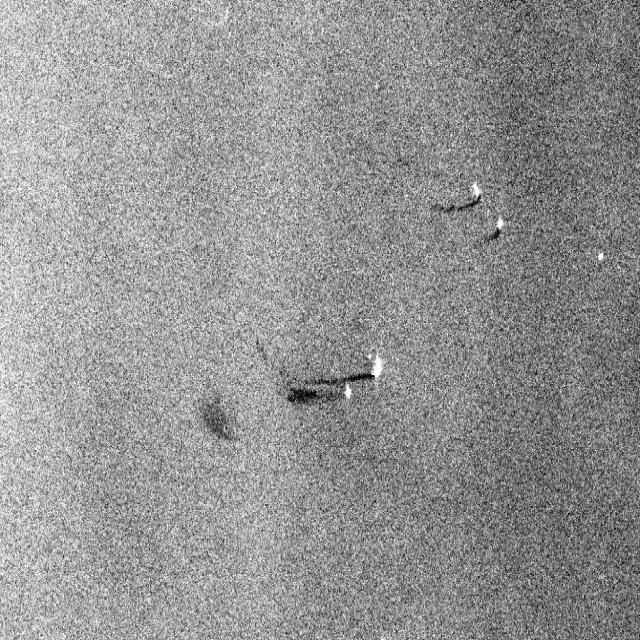look-alike: (284, 379, 336, 419), (433, 192, 480, 216), (314, 369, 370, 386), (480, 227, 501, 250)
ship: (370, 350, 386, 391), (466, 173, 486, 202), (340, 382, 357, 408), (494, 210, 508, 237)
